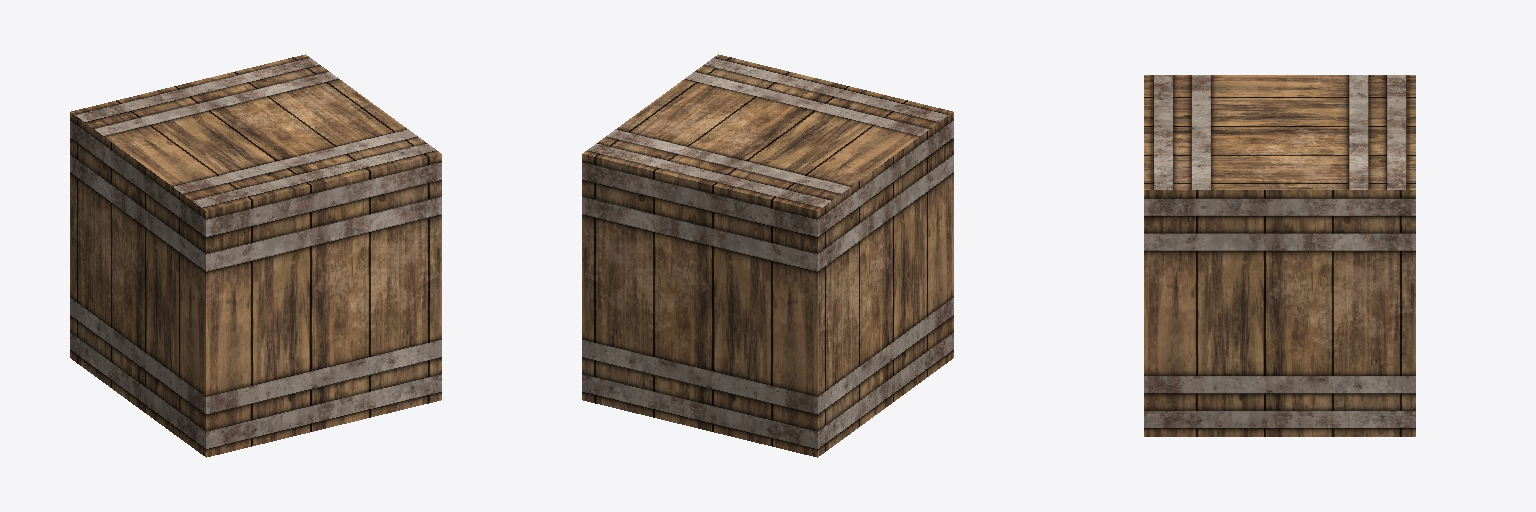
3 views of the same model, side by side, from view 1: azimuth 30°, elevation 25°; view 2: azimuth 150°, elevation 25°; view 3: azimuth 270°, elevation 25° (orthographic).
Visible parts, largest first — view 1: Cube; view 2: Cube; view 3: Cube.
Part boxes in pixels (x1,y1,x2,y2): Cube: (70,54,441,457); Cube: (582,54,953,457); Cube: (1144,75,1415,436).
Bounding box in the file's own units: 2 × 2 × 2.
Materials: 1 (1 with a texture image).